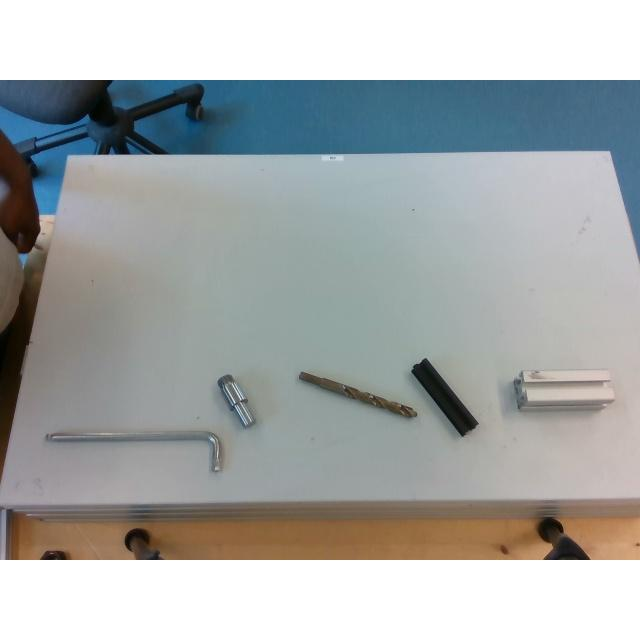AllenKey: (46, 430, 222, 470)
Axis2: (218, 374, 255, 426)
Drill: (298, 371, 418, 417)
F20_20_B: (410, 358, 478, 436)
S40_40_G: (514, 370, 614, 410)
